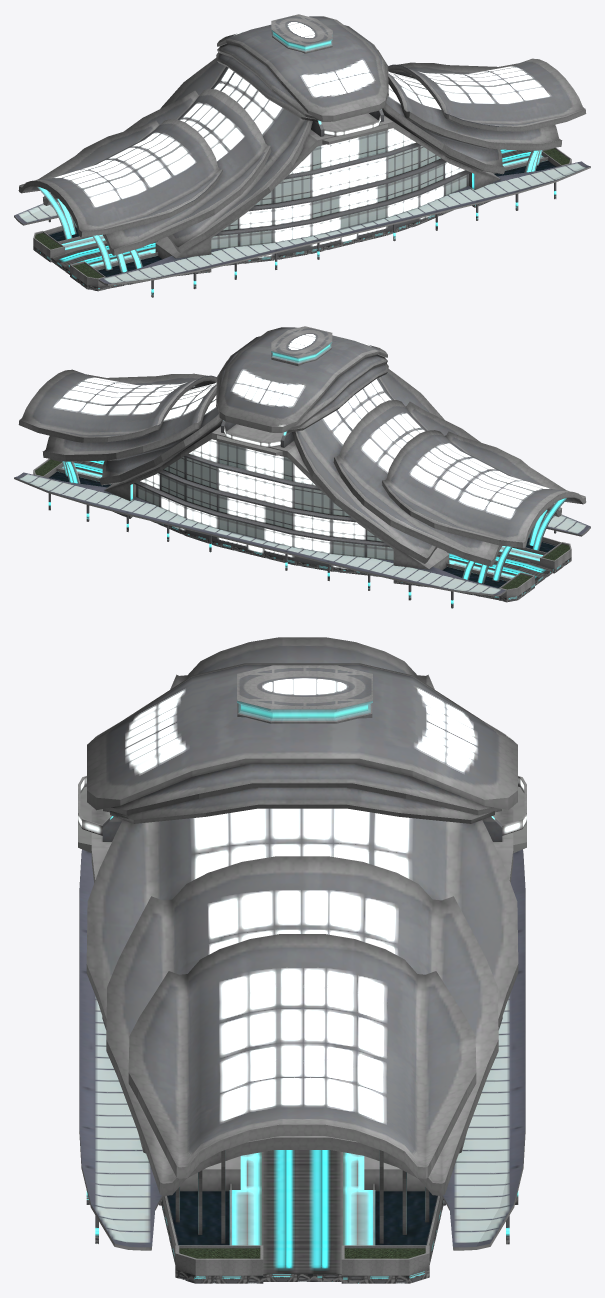
The model's file is station.glb.
The picture shows the model from 3 angles, top to bottom: view 1: azimuth 30°, elevation 25°; view 2: azimuth 150°, elevation 25°; view 3: azimuth 270°, elevation 25°; orthographic projection. The views are drawn at different scales.
Visible parts, largest first — view 1: gareobj.001; view 2: gareobj.001; view 3: gareobj.001.
Part boxes in pixels (left/top/right/bottom): gareobj.001: left=14, top=14, right=590, bottom=297; gareobj.001: left=14, top=326, right=590, bottom=608; gareobj.001: left=78, top=637, right=526, bottom=1283.
Bounding box in the file's own units: 129 × 43.96 × 49.69.
Materials: 2 (2 with a texture image).
